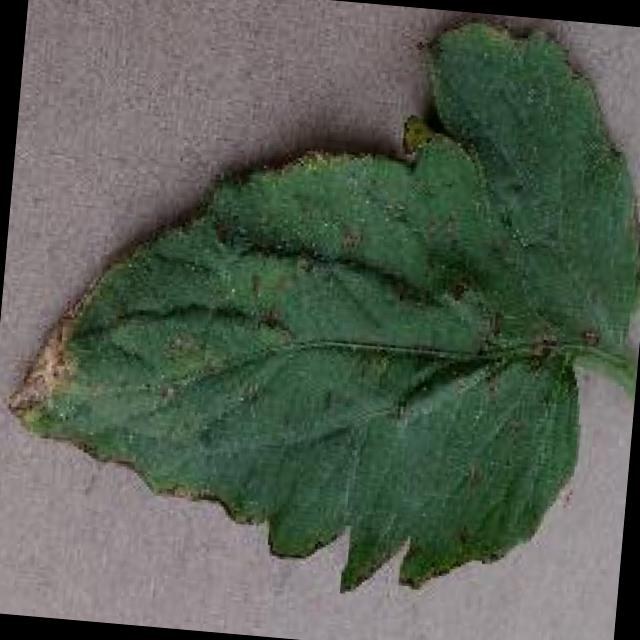bacterial spot: (0, 25, 640, 595)
